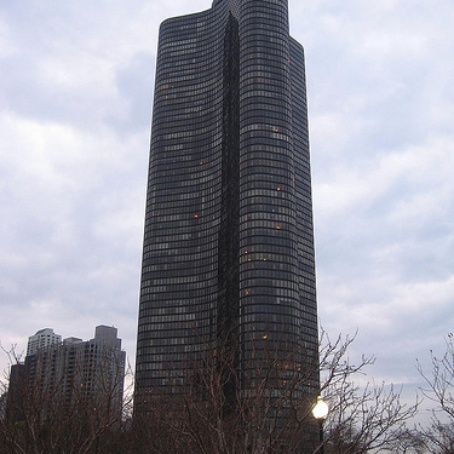building: (133, 1, 326, 454), (1, 324, 128, 454)
sky: (331, 1, 454, 407), (1, 1, 135, 317)
